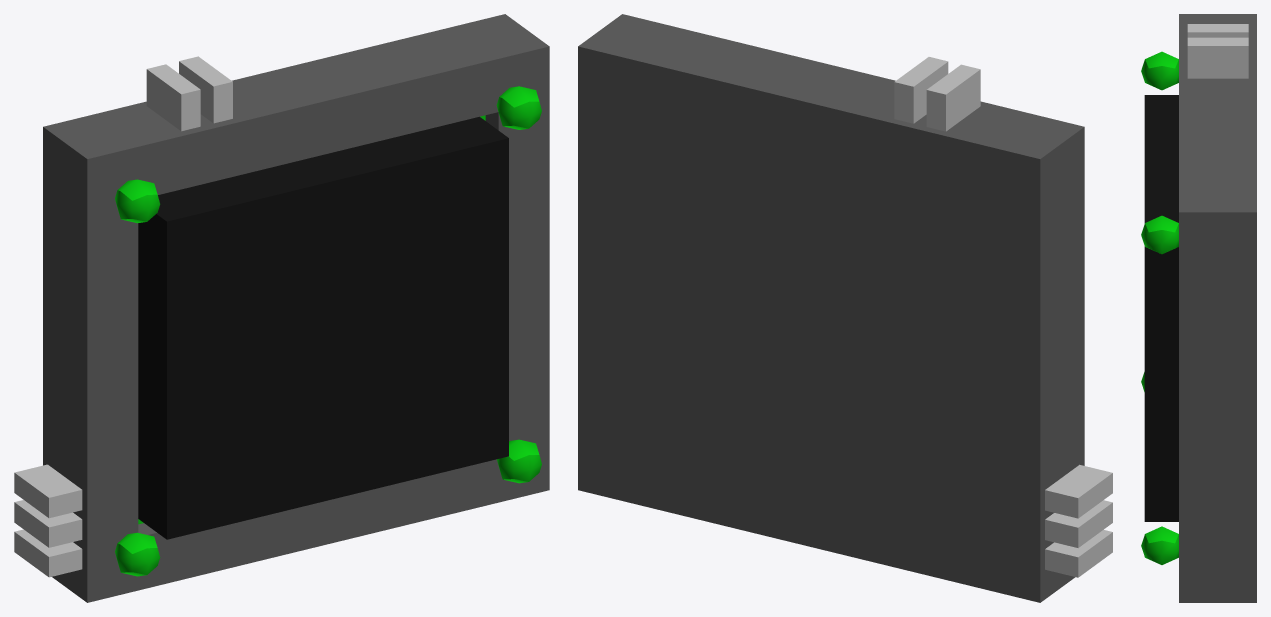
The model's file is Microchip.fbx.
The picture shows the model from 3 angles, left to right: view 1: azimuth 30°, elevation 25°; view 2: azimuth 150°, elevation 25°; view 3: azimuth 270°, elevation 25°; orthographic projection. The views are drawn at different scales.
Parts seen in each view (by area): view 1: MicroChip; view 2: MicroChip; view 3: MicroChip.
Boxes of the visible parts, x1=… form: MicroChip: x1=14, y1=14, x2=549, y2=602; MicroChip: x1=578, y1=14, x2=1112, y2=602; MicroChip: x1=1141, y1=14, x2=1256, y2=602.
Size of the model in its own units: 39.61 by 36.72 by 9.11.
